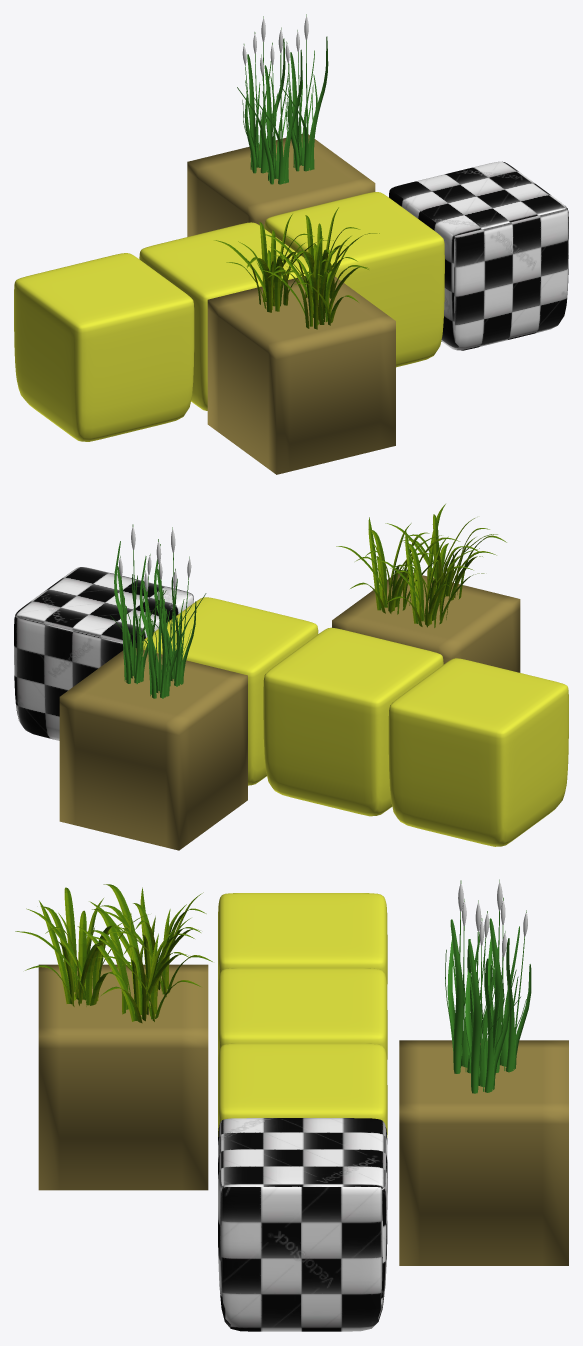
File: Level1_base (1).glb
The picture shows the model from 3 angles, top to bottom: view 1: azimuth 30°, elevation 25°; view 2: azimuth 150°, elevation 25°; view 3: azimuth 270°, elevation 25°; orthographic projection. The views are drawn at different scales.
Parts seen in each view (by area): view 1: Cube.002, Cube.004, Cube.005, Cube.003, Cube.001, plant_3, High Grass.001; view 2: Cube.002, Cube.001, Cube.005, Cube.003, Cube.004, High Grass.001, plant_3; view 3: Cube.001, Cube.005, Cube.004, Cube.002, Cube.003, High Grass.001, plant_3.
Boxes of the visible parts, <box> form: Cube.002: <box>14,222,308,441</box>; Cube.004: <box>207,272,395,474</box>; Cube.005: <box>389,161,568,350</box>; Cube.003: <box>264,192,444,367</box>; Cube.001: <box>187,133,375,236</box>; plant_3: <box>237,14,328,184</box>; High Grass.001: <box>214,207,379,329</box>; Cube.002: <box>263,627,568,846</box>; Cube.001: <box>59,648,247,850</box>; Cube.005: <box>14,567,193,740</box>; Cube.003: <box>142,597,318,785</box>; Cube.004: <box>332,570,520,672</box>; High Grass.001: <box>336,504,506,627</box>; plant_3: <box>110,524,206,698</box>; Cube.001: <box>399,1040,568,1265</box>; Cube.005: <box>218,1118,387,1331</box>; Cube.004: <box>38,964,208,1190</box>; Cube.002: <box>218,893,387,1062</box>; Cube.003: <box>218,1043,387,1137</box>; High Grass.001: <box>15,884,212,1023</box>; plant_3: <box>445,879,531,1093</box>.
Bounding box in the file's own units: 11.42 × 6.17 × 9.02.
Materials: 6 (2 with a texture image).
